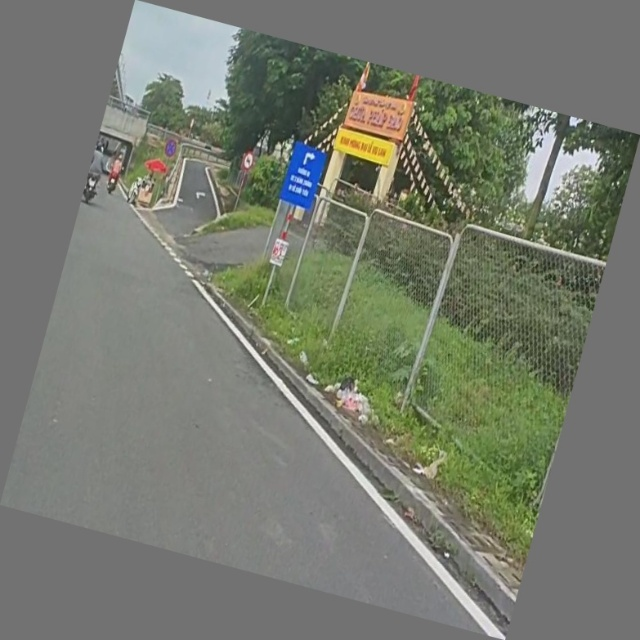P.103a: (241, 150, 257, 174)
P.130: (164, 139, 178, 159)
